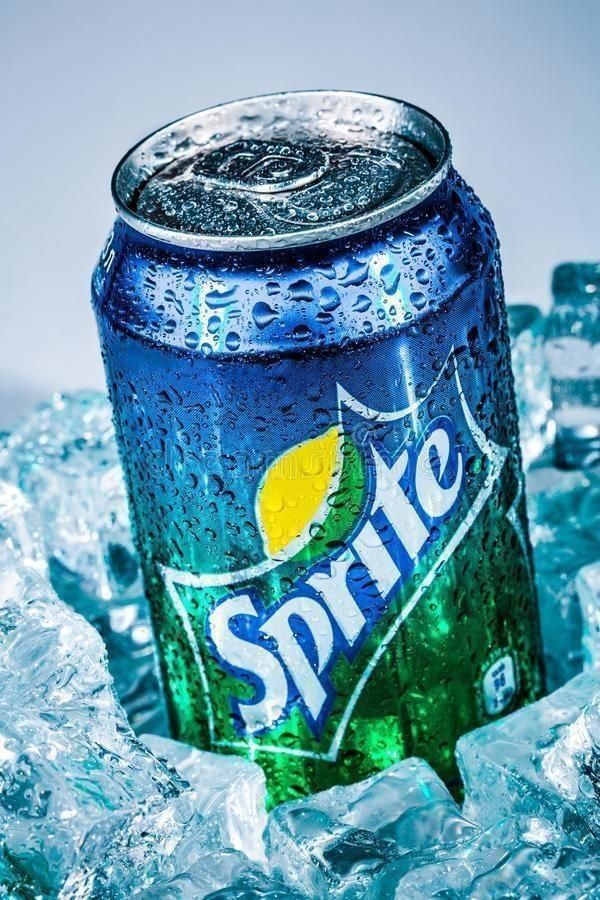tin can: (88, 88, 547, 777)
